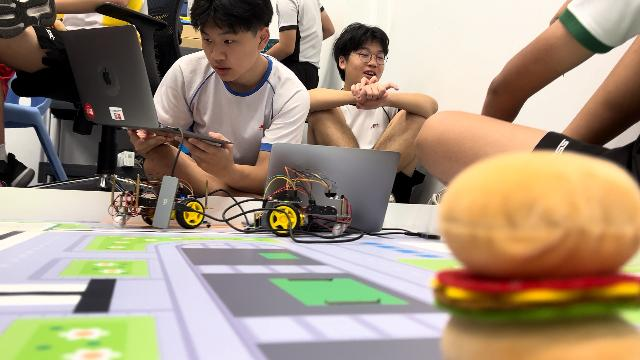burger: (430, 150, 640, 360)
